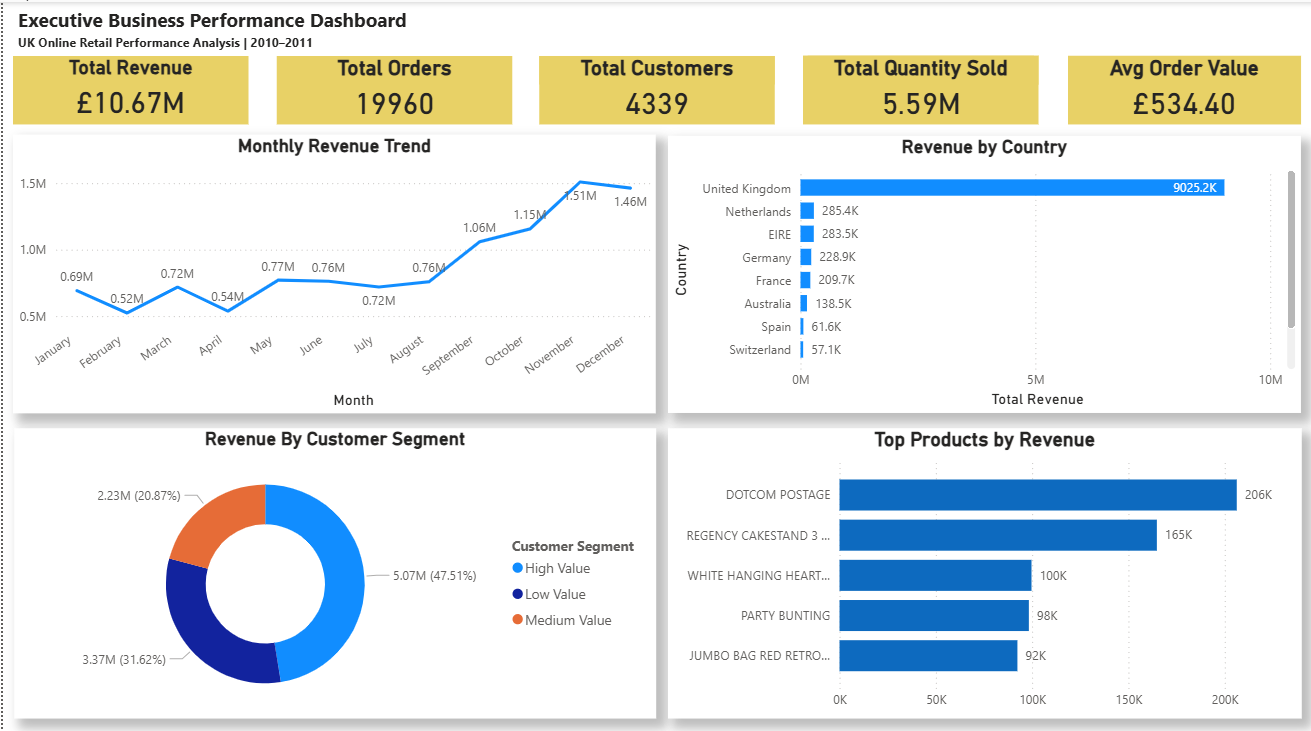

What the dashboard file says about the page in this screenshot:
{"tool":"powerbi","page":{"name":"Page 1","canvas":[1280,720],"ordinal":0},"visuals":[{"type":"card","title":"Total Revenue","fields":{"Values":["online_retail_clean.Total Revenue"]},"box":[9.6,52.1,230.5,67.2],"z":0},{"type":"card","title":"Total Orders","fields":{"Values":["online_retail_clean.Total Orders SQL Match"]},"box":[267.6,52.1,230.5,67.2],"z":1000},{"type":"card","title":"Total Customers","fields":{"Values":["online_retail_clean.Total Customers"]},"box":[524.2,52.1,230.5,67.2],"z":2000},{"type":"card","title":"Total Quantity Sold","fields":{"Values":["online_retail_clean.Total Quantity Sold"]},"box":[782.2,52.1,230.5,67.2],"z":3000},{"type":"card","title":"Avg Order Value","fields":{"Values":["online_retail_clean.Average Order Value"]},"box":[1041.5,52.1,227.8,67.2],"z":4000},{"type":"lineChart","title":"Monthly Revenue Trend","fields":{"Category":["online_retail_clean.InvoiceDate.Variation.Date Hierarchy.Month"],"Y":["online_retail_clean.Total Revenue"]},"box":[10.1,129.8,629,272.7],"z":5000},{"type":"clusteredBarChart","title":"Revenue by Country","fields":{"Category":["online_retail_clean.Country"],"Y":["online_retail_clean.Total Revenue"]},"box":[650.7,131.3,618.9,271.2],"z":6000},{"type":"donutChart","title":"Revenue By Customer Segment","fields":{"Category":["online_retail_clean.Customer Segment"],"Y":["online_retail_clean.Total Revenue"]},"box":[11.5,417,627.6,284.2],"z":7000},{"type":"clusteredBarChart","title":"Top Products by Revenue","fields":{"Category":["online_retail_clean.Description"],"Y":["online_retail_clean.Revenue"]},"box":[650.5,417,620,283.7],"z":8000},{"type":"textbox","box":[9.8,0,745.9,52.6],"z":9000}]}

Visuals, with their boxes in screenshot pixels (x1, y1, x2, y2), scaled from the page's 1280x720 canvas onto the 1311x731 screenshot:
"Total Revenue" card: 10:53:246:121
"Total Orders" card: 274:53:510:121
"Total Customers" card: 537:53:773:121
"Total Quantity Sold" card: 801:53:1037:121
"Avg Order Value" card: 1067:53:1300:121
"Monthly Revenue Trend" lineChart: 10:132:655:409
"Revenue by Country" clusteredBarChart: 666:133:1300:409
"Revenue By Customer Segment" donutChart: 12:423:655:712
"Top Products by Revenue" clusteredBarChart: 666:423:1301:711
textbox: 10:0:774:53
